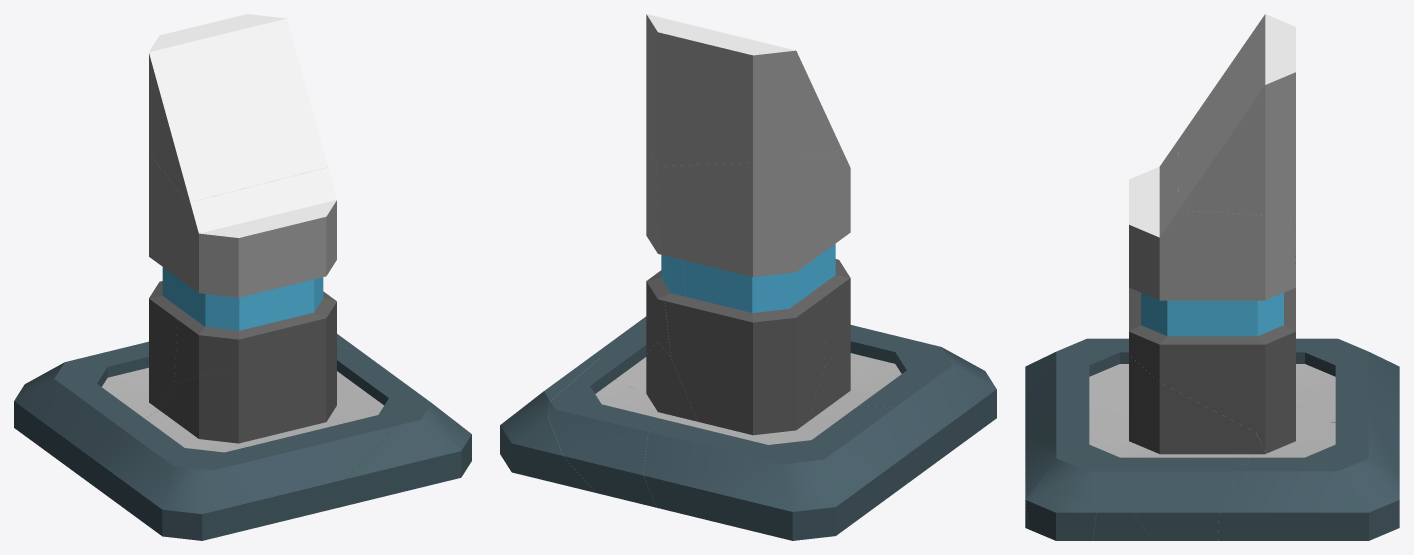
The model's file is Terminal_Fractured.fbx.
3 renders of one model, left to right at view 1: azimuth 30°, elevation 25°; view 2: azimuth 150°, elevation 25°; view 3: azimuth 270°, elevation 25°, orthographic. The views are drawn at different scales.
Visible parts, largest first — view 1: bag_dieu_khien_cell.005, bag_dieu_khien_cell.001, bag_dieu_khien_cell.002, bag_dieu_khien_cell.003, bag_dieu_khien_cell.006; view 2: bag_dieu_khien_cell.003, bag_dieu_khien_cell.002, bag_dieu_khien_cell.005, bag_dieu_khien_cell.007, bag_dieu_khien_cell.001, bag_dieu_khien_cell; view 3: bag_dieu_khien_cell.001, bag_dieu_khien_cell.005, bag_dieu_khien_cell.002, bag_dieu_khien_cell, bag_dieu_khien_cell.003, bag_dieu_khien_cell.007, bag_dieu_khien_cell.006, bag_dieu_khien_cell.004.
Part boxes in pixels (x1,y1,x2,y2): bag_dieu_khien_cell.005: (79, 337, 427, 540); bag_dieu_khien_cell.001: (174, 167, 336, 383); bag_dieu_khien_cell.002: (149, 14, 327, 201); bag_dieu_khien_cell.003: (14, 153, 184, 475); bag_dieu_khien_cell.006: (321, 400, 462, 511); bag_dieu_khien_cell.003: (643, 154, 918, 540); bag_dieu_khien_cell.002: (646, 14, 840, 166); bag_dieu_khien_cell.005: (594, 316, 996, 483); bag_dieu_khien_cell.007: (547, 342, 697, 507); bag_dieu_khien_cell.001: (646, 148, 850, 368); bag_dieu_khien_cell: (500, 354, 599, 492); bag_dieu_khien_cell.001: (1129, 140, 1295, 432); bag_dieu_khien_cell.005: (1025, 338, 1266, 540); bag_dieu_khien_cell.002: (1178, 14, 1295, 215); bag_dieu_khien_cell: (1218, 464, 1399, 540); bag_dieu_khien_cell.003: (1284, 203, 1399, 436); bag_dieu_khien_cell.007: (1245, 373, 1399, 475); bag_dieu_khien_cell.006: (1025, 440, 1152, 540); bag_dieu_khien_cell.004: (1026, 496, 1096, 540).
Size of the model in its own units: 816 by 984 by 810.
